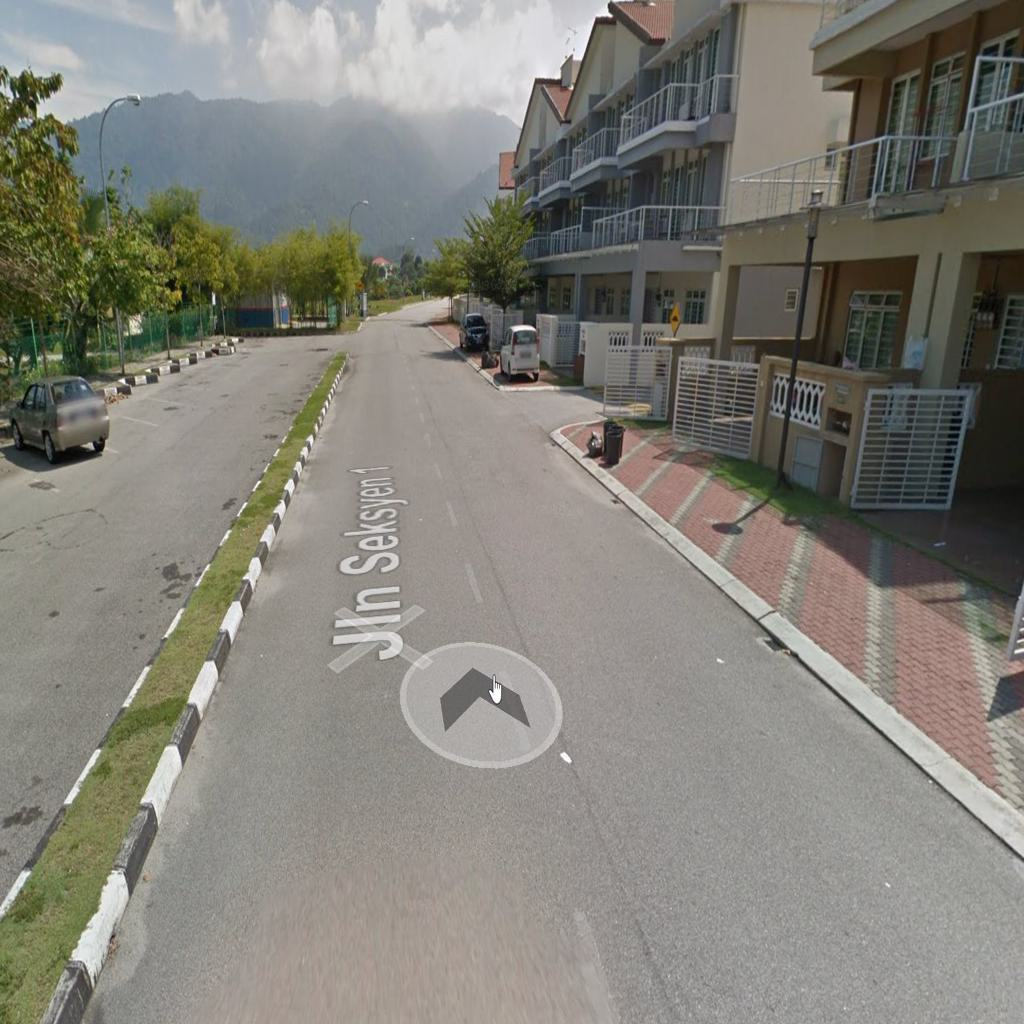Junction: (476, 350, 653, 456)
